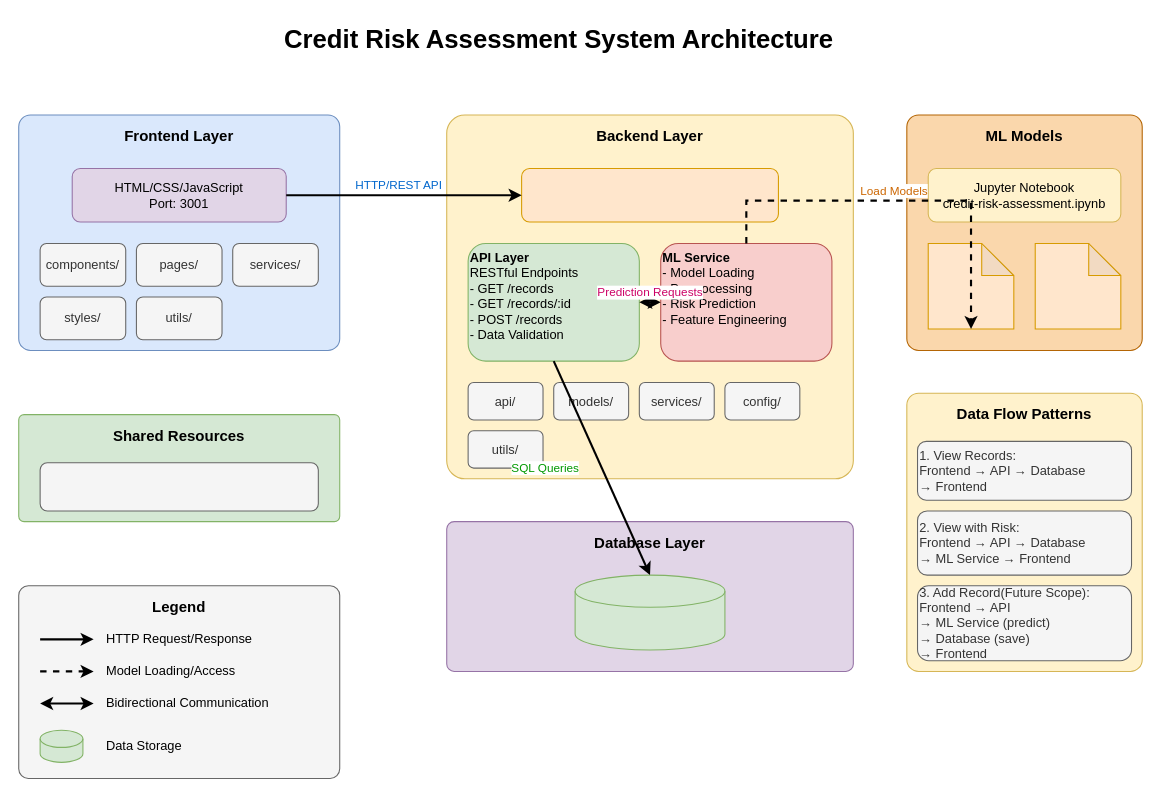
Some shapes in this 1161 by 797 pixel diagram are drawn without their labels. The shapes that lost their labels are listed below. From the top down, each one's box as (x1, y1, x2, y2) in pixels, then its label:
(521, 167, 778, 222): Python Flask Application Port: 5000
(927, 242, 1014, 329): Trained Models (.pkl files)
(1034, 242, 1121, 329): MLflow Models
(39, 462, 318, 511): constants/index.js Risk Categories, Loan Grades, Employment Length, etc.
(574, 574, 725, 650): SQLite Database credit_risk.db
